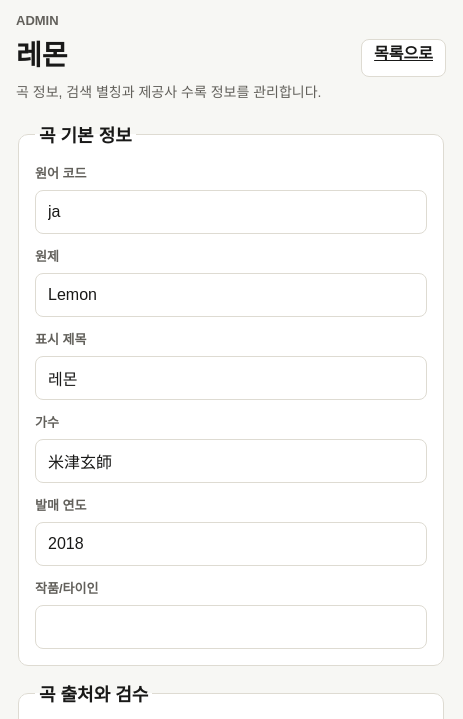
it: administrator song detail page › preserves the draft and disables editing when duplicate-check reports feature-off
Replace the text in the field labelled "원제" with "Feature-off draft" at x=231, y=295, box [35,273,427,317]
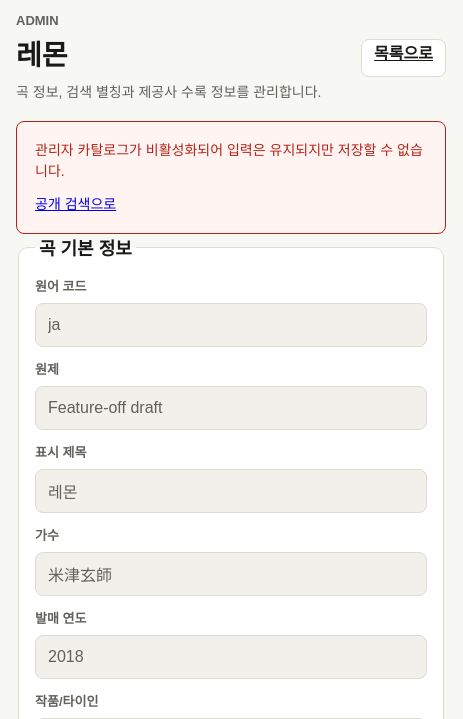
Check: the text "관리자 카탈로그가 비활성화되어 입력은 유지되지만 저장할 수 없습니다." is shown, box [35,140,427,182]
Check: the link "공개 검색으로" is shown, box [35,196,116,212]
